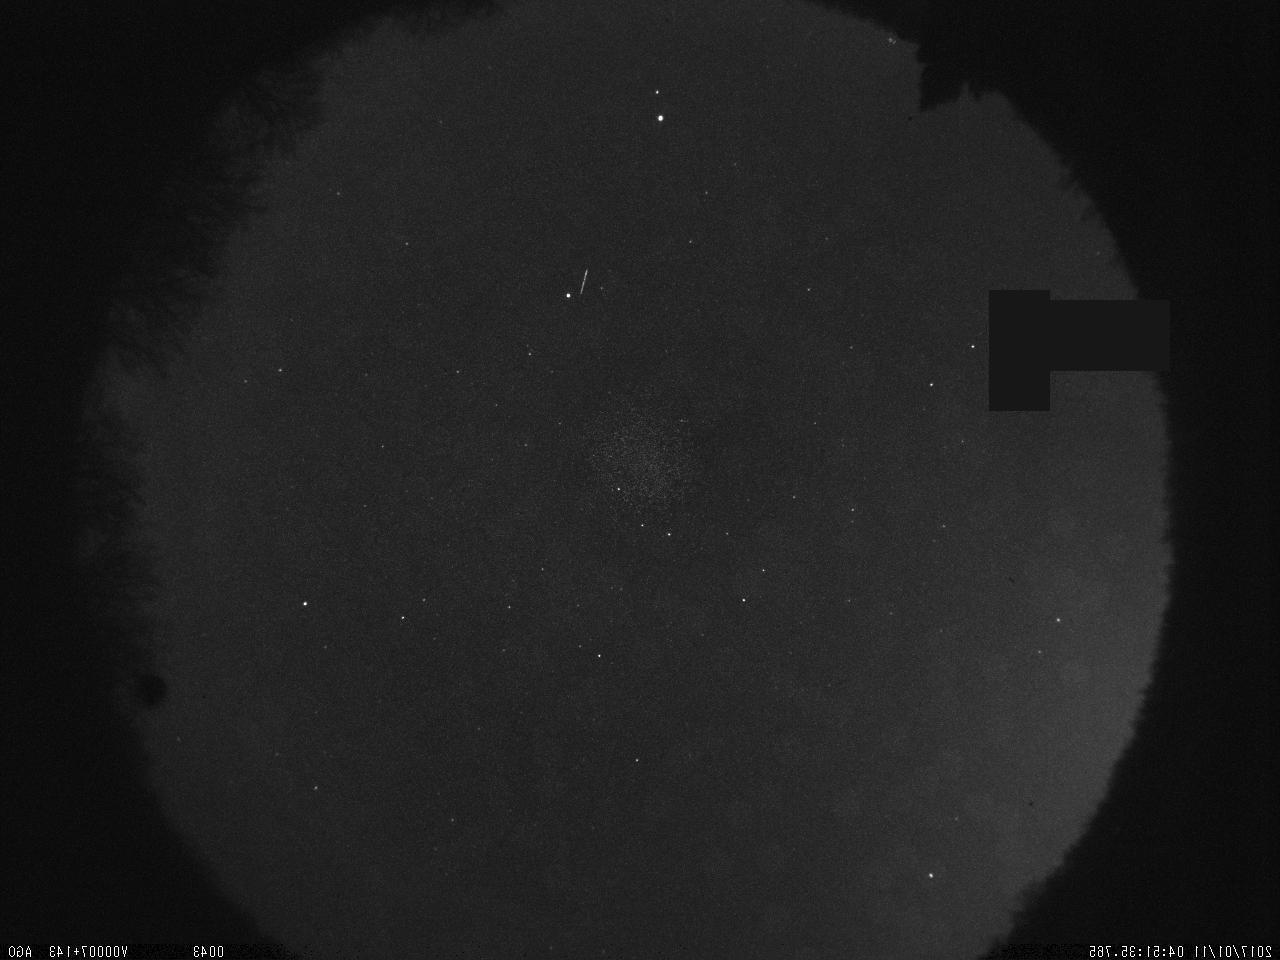meteor: (570, 262, 597, 299)
